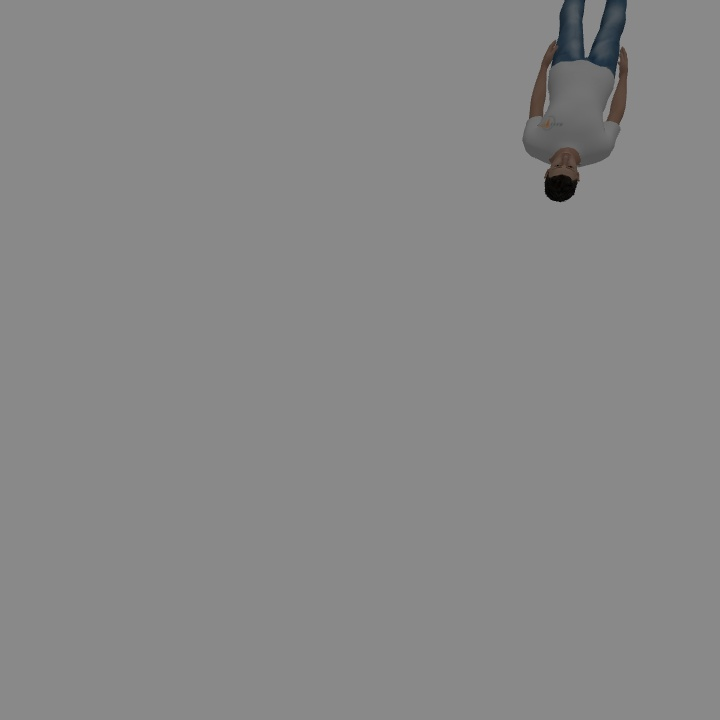victim: (524, 1, 632, 196)
